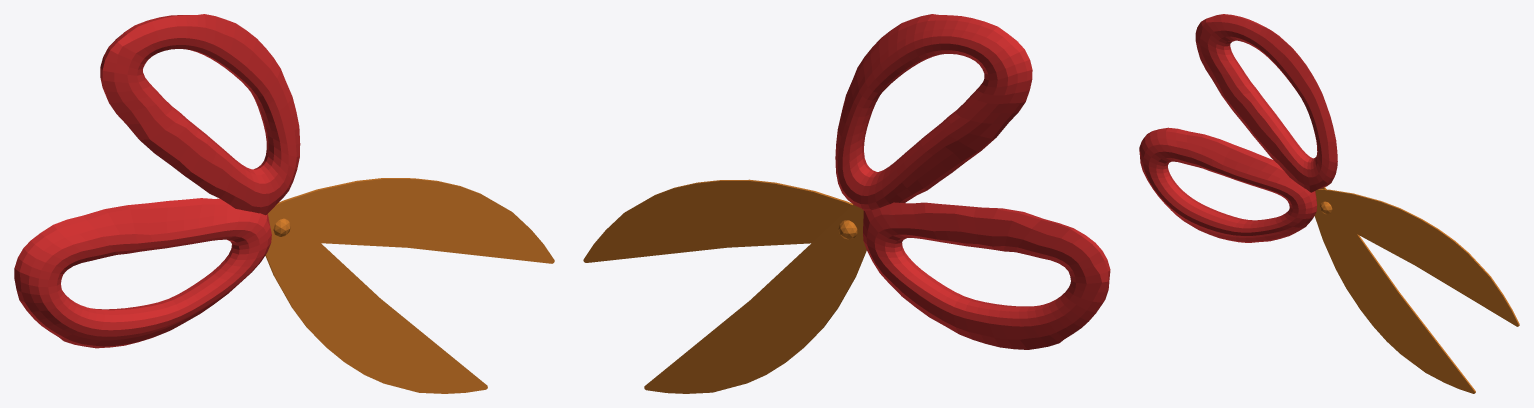
Rendered from Sakset.obj.
3 views of the same model, side by side, from view 1: azimuth 30°, elevation 25°; view 2: azimuth 150°, elevation 25°; view 3: azimuth 330°, elevation 25° (orthographic). The views are drawn at different scales.
Visible parts, largest first — view 1: Torus.001, Torus.002, Cube, Cube.001; view 2: Torus.001, Torus.002, Cube.001, Cube; view 3: Torus.002, Torus.001, Cube, Cube.001.
Part boxes in pixels (x1,y1,x2,y2): Torus.001: (14, 198, 271, 348); Torus.002: (100, 14, 300, 215); Cube: (268, 178, 554, 263); Cube.001: (265, 240, 487, 393); Torus.001: (863, 202, 1110, 349); Torus.002: (835, 14, 1032, 210); Cube.001: (644, 204, 866, 393); Cube: (583, 179, 852, 262); Torus.002: (1195, 14, 1337, 192); Torus.001: (1139, 127, 1317, 242); Cube: (1315, 189, 1519, 326); Cube.001: (1314, 187, 1475, 393).
Bounding box in the file's own units: 4.93 × 3.99 × 0.2734.
